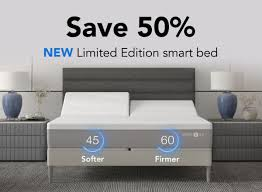bed-matress: (47, 96, 214, 147)
